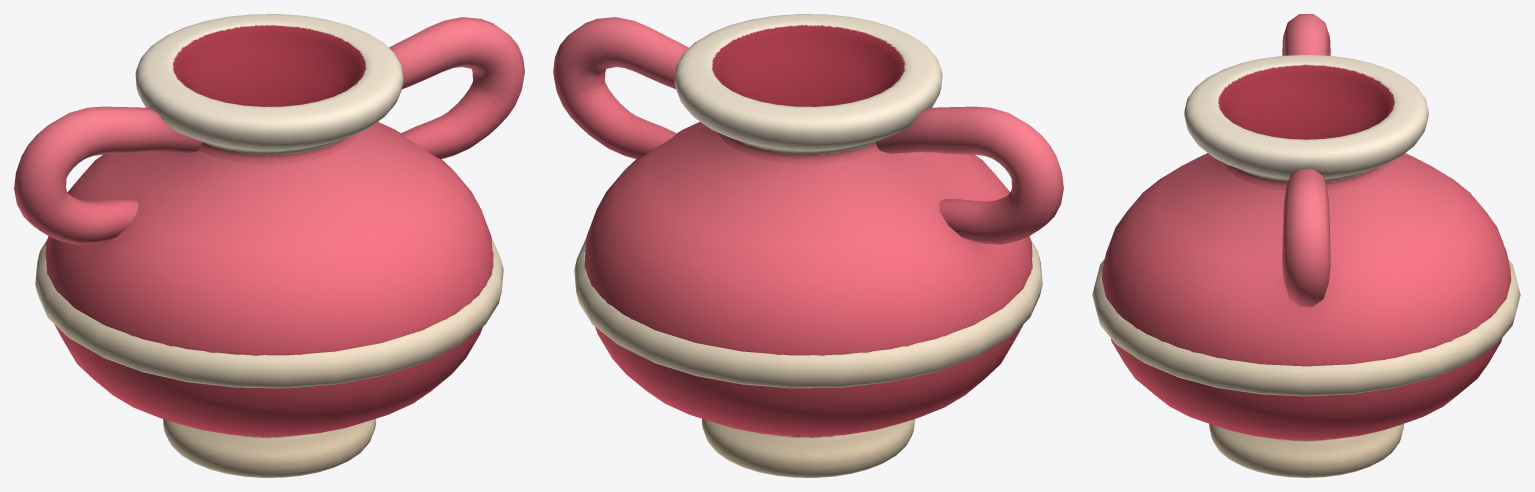
File: ArtV9_Amphora1.fbx
3 views of the same model, side by side, from view 1: azimuth 30°, elevation 25°; view 2: azimuth 150°, elevation 25°; view 3: azimuth 270°, elevation 25° (orthographic). The views are drawn at different scales.
Visible parts, largest first — view 1: ArtV9_Amphora1; view 2: ArtV9_Amphora1; view 3: ArtV9_Amphora1.
Boxes of the visible parts, <box> form: ArtV9_Amphora1: <box>14,14,524,477</box>; ArtV9_Amphora1: <box>553,14,1063,477</box>; ArtV9_Amphora1: <box>1092,14,1520,477</box>.
Size of the model in its own units: 3.51 by 2.5 by 2.84.
